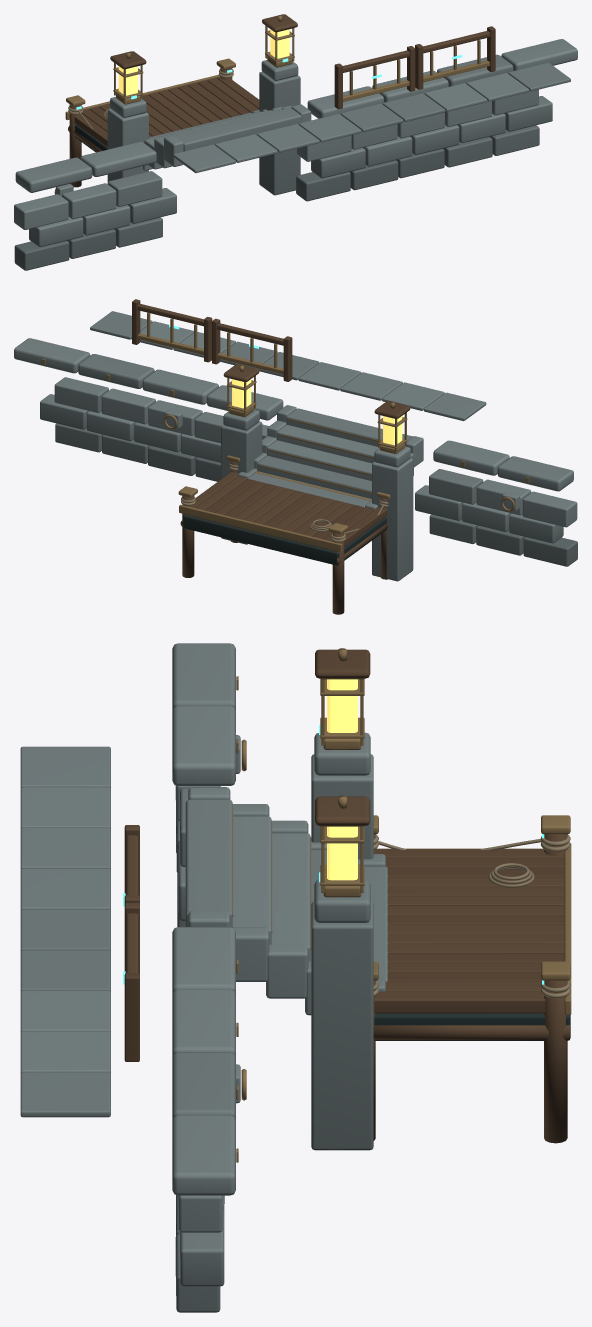
Rendered from dock-craft-v15.glb.
3 renders of one model, top to bottom at view 1: azimuth 30°, elevation 25°; view 2: azimuth 150°, elevation 25°; view 3: azimuth 270°, elevation 25°, orthographic. The views are drawn at different scales.
Parts seen in each view (by area): view 1: Dock_BlueLimestone_Geometry, Dock_OiledCedar_Geometry, Dock_AgedBronze_Geometry, Dock_LanternGlass_Geometry; view 2: Dock_BlueLimestone_Geometry, Dock_OiledCedar_Geometry, Dock_AgedBronze_Geometry, Dock_ShadowRecess_Geometry, Dock_LanternGlass_Geometry, Dock_HempRope_Geometry; view 3: Dock_BlueLimestone_Geometry, Dock_OiledCedar_Geometry, Dock_AgedBronze_Geometry, Dock_LanternGlass_Geometry, Dock_ShadowRecess_Geometry, Dock_HempRope_Geometry.
Part boxes in pixels (x1,y1,x2,y2): Dock_BlueLimestone_Geometry: (14, 39, 577, 270); Dock_OiledCedar_Geometry: (68, 14, 495, 187); Dock_AgedBronze_Geometry: (54, 15, 489, 194); Dock_LanternGlass_Geometry: (118, 29, 289, 95); Dock_BlueLimestone_Geometry: (14, 311, 577, 581); Dock_OiledCedar_Geometry: (132, 299, 410, 614); Dock_AgedBronze_Geometry: (41, 313, 529, 552); Dock_ShadowRecess_Geometry: (183, 515, 386, 565); Dock_LanternGlass_Geometry: (232, 379, 402, 445); Dock_HempRope_Geometry: (181, 463, 388, 542); Dock_BlueLimestone_Geometry: (20, 643, 388, 1312); Dock_OiledCedar_Geometry: (124, 649, 569, 1143); Dock_AgedBronze_Geometry: (232, 648, 571, 1162); Dock_LanternGlass_Geometry: (327, 679, 357, 880); Dock_ShadowRecess_Geometry: (374, 1013, 570, 1040); Dock_HempRope_Geometry: (373, 834, 570, 998).
Size of the model in its own units: 12.41 by 3.67 by 5.37.
